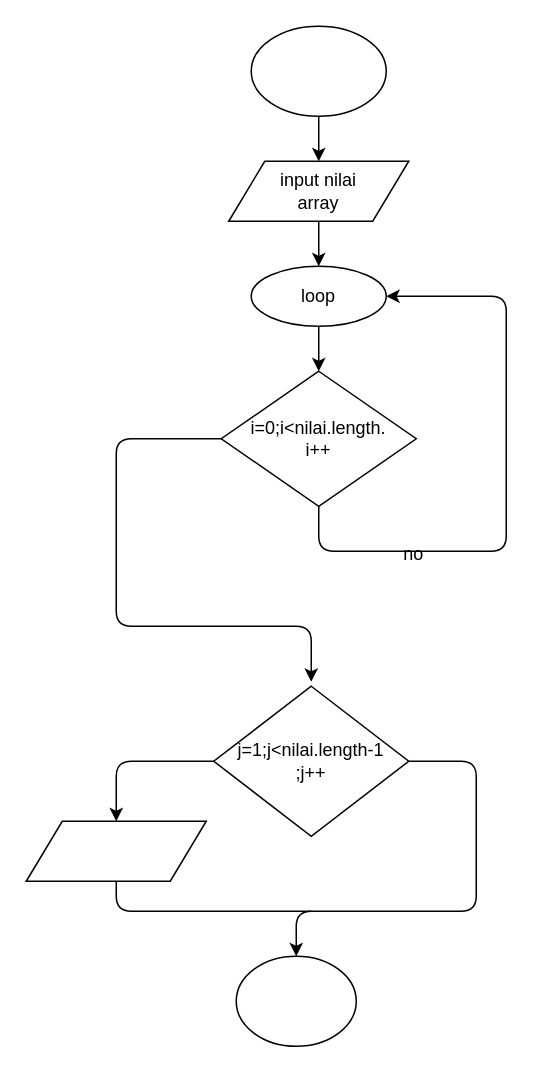
This 545x1073 diagram has some shape labels left out. Each missing label, with the centre of its shape:
"nilai [j]>nilai[i]" goes at (115,850).
"START" goes at (318,70).
